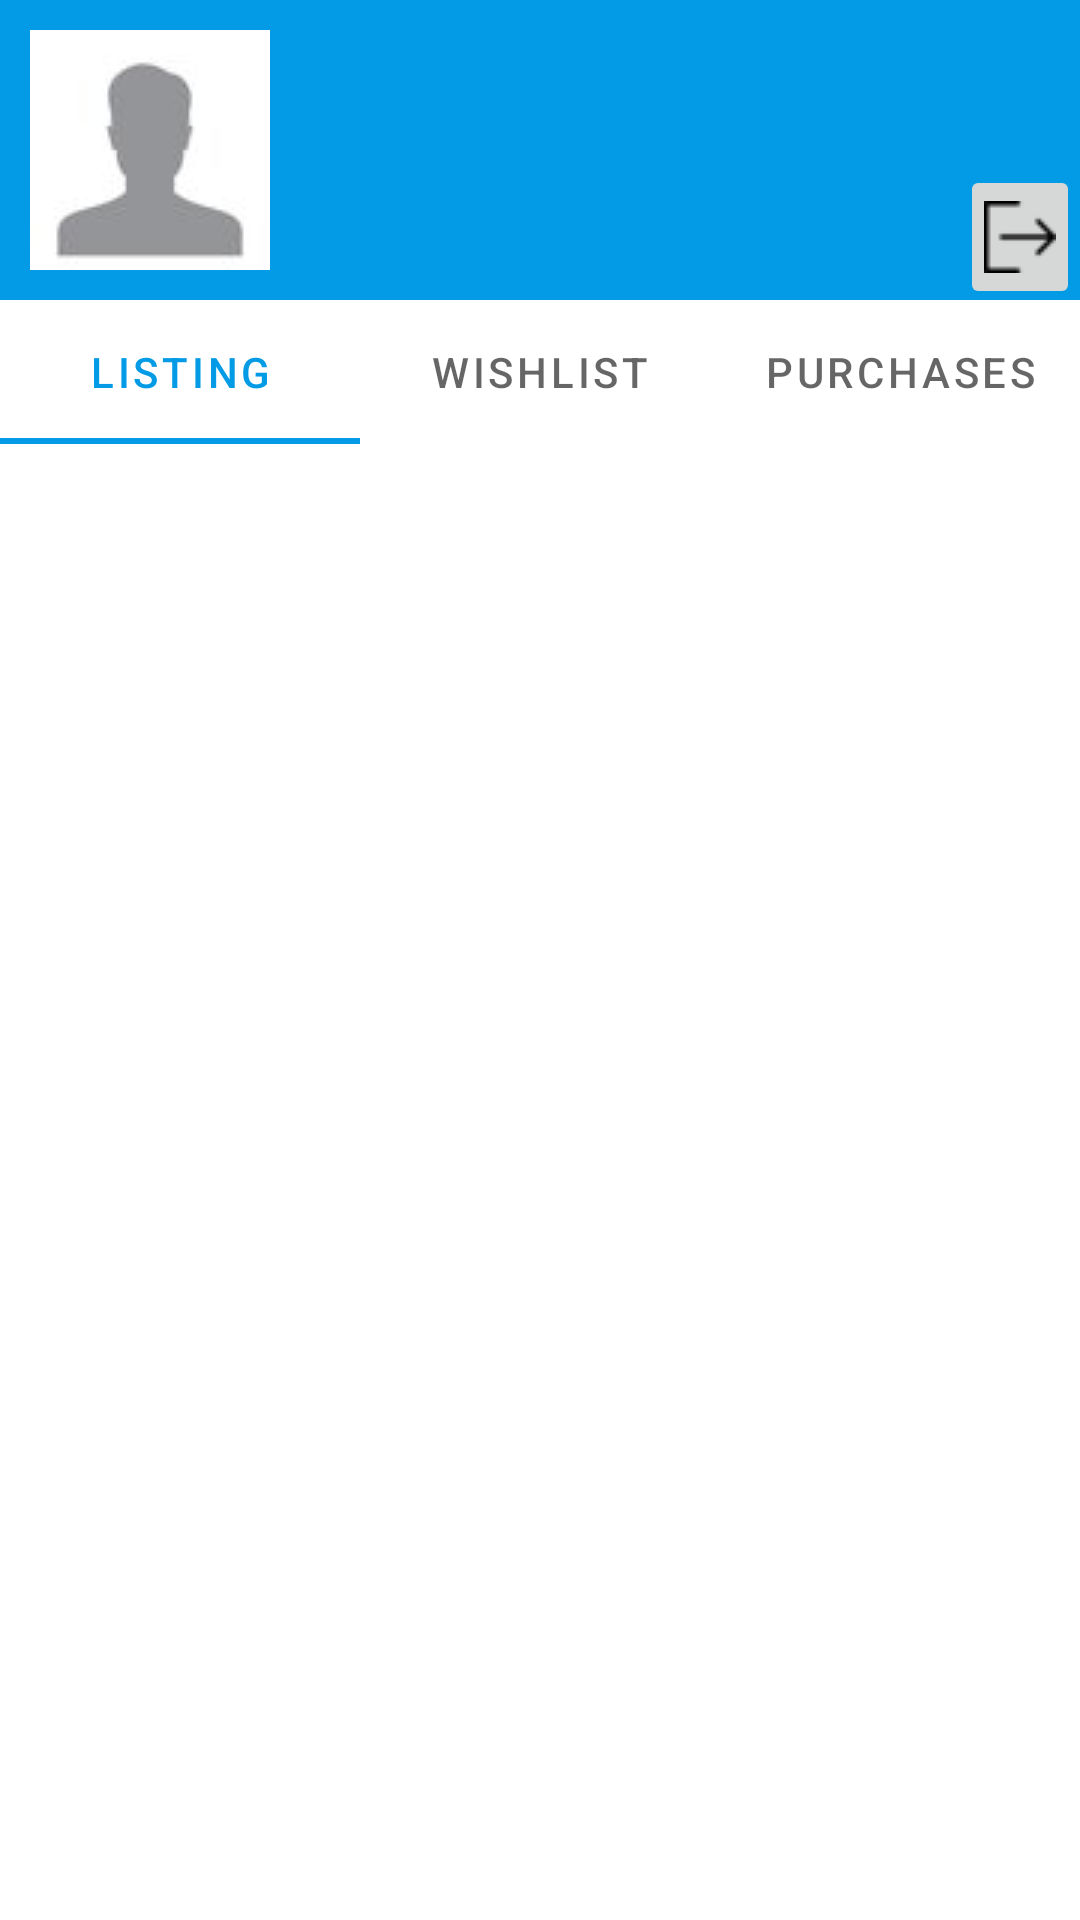

Icon click points for this 1080w x 1920h phone screenshot, format [x,y]:
anon: [150,150]
